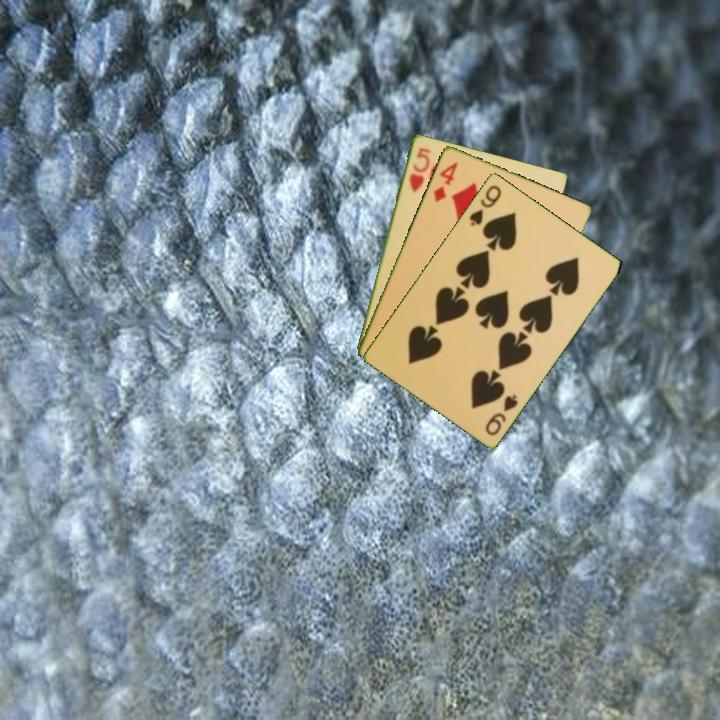4d: (430, 158, 461, 205)
5h: (405, 144, 434, 195)
9s: (482, 391, 521, 438), (466, 181, 504, 229)
